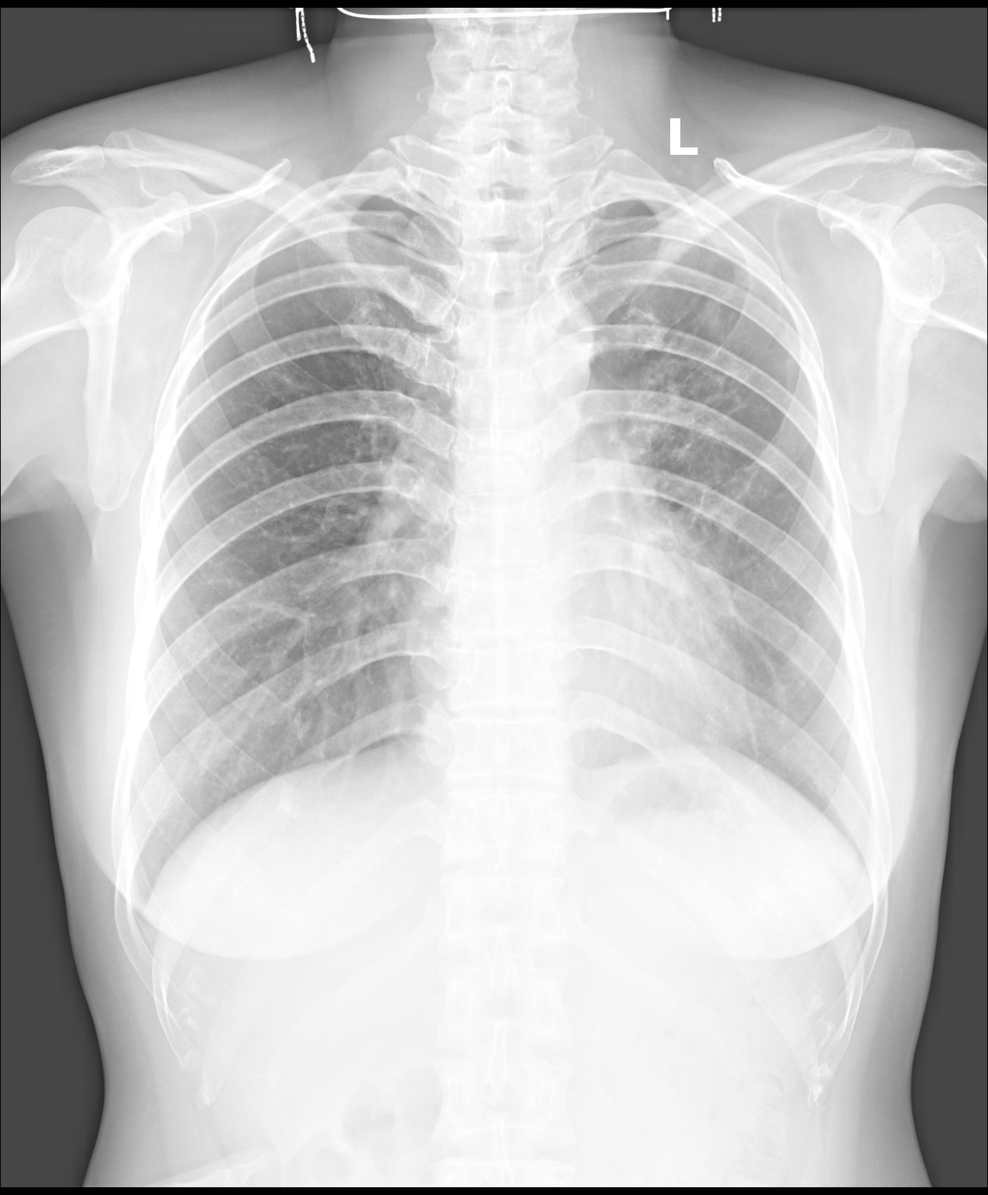Pleural thickening: (598, 198, 670, 219)
